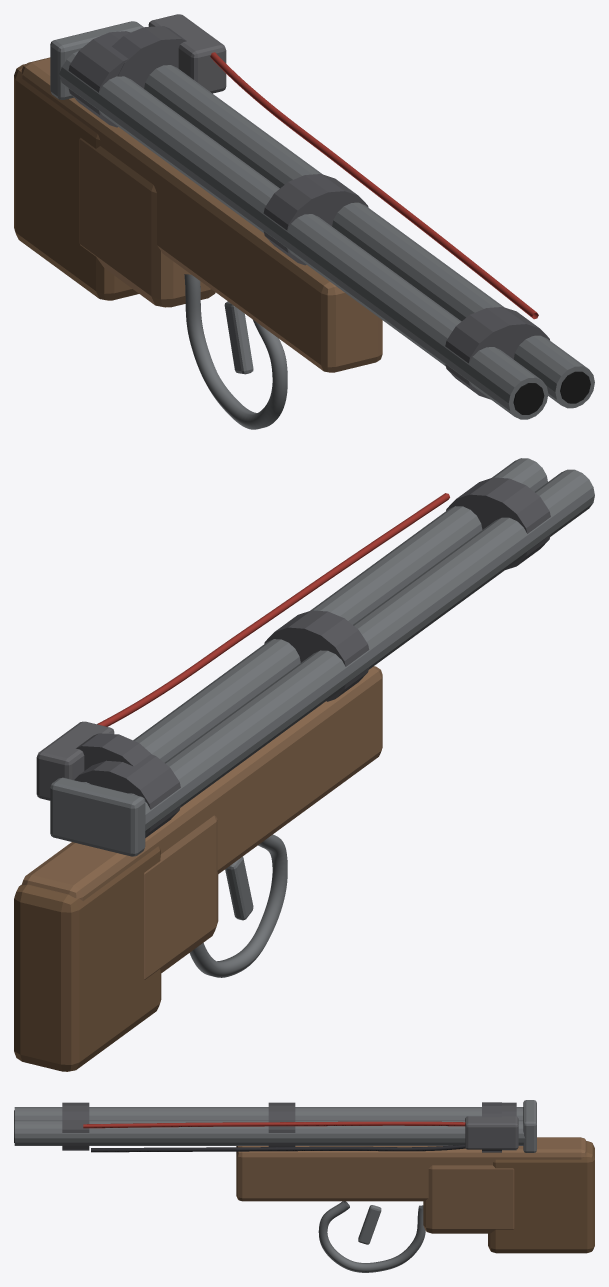
Rendered from grapeshot-gun.glb.
3 renders of one model, top to bottom at view 1: azimuth 30°, elevation 25°; view 2: azimuth 150°, elevation 25°; view 3: azimuth 270°, elevation 25°, orthographic. The views are drawn at different scales.
Parts seen in each view (by area): view 1: Plank_Main, Pipe_L, Pipe_R, Plank_Butt, Plank_Grip, Trigger_Loop, Tape_Mid, Tape_Muzzle, Wire_Red, Igniter_Block, Igniter_Tape, Tape_Breech (+4 smaller); view 2: Plank_Butt, Pipe_L, Plank_Main, Pipe_R, Plank_Grip, Breech_Plate, Tape_Muzzle, Tape_Mid, Wire_Red, Trigger_Loop, Tape_Breech, Igniter_Block (+2 smaller); view 3: Plank_Main, Pipe_R, Plank_Butt, Plank_Grip, Pipe_L, Trigger_Loop, Wire_Red, Wire_Black, Igniter_Block, Tape_Muzzle, Tape_Mid, Breech_Plate (+3 smaller).
Boxes of the visible parts, left/top/right/bottom form: Plank_Main: left=21, top=57, right=382, bottom=372; Pipe_L: left=59, top=51, right=548, bottom=419; Pipe_R: left=144, top=65, right=594, bottom=408; Plank_Butt: left=14, top=64, right=138, bottom=300; Plank_Grip: left=79, top=137, right=215, bottom=307; Trigger_Loop: left=184, top=274, right=287, bottom=429; Tape_Mid: left=263, top=174, right=368, bottom=265; Tape_Muzzle: left=445, top=307, right=549, bottom=399; Wire_Red: left=210, top=52, right=538, bottom=319; Igniter_Block: left=148, top=14, right=226, bottom=93; Igniter_Tape: left=112, top=26, right=186, bottom=88; Tape_Breech: left=68, top=31, right=130, bottom=127; Plank_Butt: left=14, top=846, right=161, bottom=1071; Pipe_L: left=128, top=469, right=594, bottom=832; Plank_Main: left=21, top=666, right=382, bottom=900; Pipe_R: left=82, top=458, right=547, bottom=784; Plank_Grip: left=144, top=815, right=218, bottom=979; Breech_Plate: left=50, top=777, right=145, bottom=856; Tape_Muzzle: left=446, top=477, right=550, bottom=569; Tape_Mid: left=264, top=610, right=369, bottom=701; Wire_Red: left=97, top=493, right=449, bottom=726; Trigger_Loop: left=189, top=834, right=287, bottom=977; Tape_Breech: left=74, top=754, right=180, bottom=837; Igniter_Block: left=36, top=721, right=114, bottom=800; Plank_Main: left=236, top=1137, right=586, bottom=1201; Pipe_R: left=14, top=1120, right=525, bottom=1145; Plank_Butt: left=488, top=1141, right=594, bottom=1253; Plank_Grip: left=423, top=1165, right=514, bottom=1233; Pipe_L: left=14, top=1107, right=523, bottom=1119; Trigger_Loop: left=318, top=1201, right=425, bottom=1272; Wire_Red: left=83, top=1121, right=465, bottom=1128; Wire_Black: left=91, top=1144, right=465, bottom=1152; Igniter_Block: left=465, top=1116, right=518, bottom=1149; Tape_Muzzle: left=62, top=1102, right=89, bottom=1150; Tape_Mid: left=268, top=1102, right=295, bottom=1146; Breech_Plate: left=523, top=1100, right=536, bottom=1152.
Size of the model in its own units: 0.1005 by 0.2483 by 0.761.
